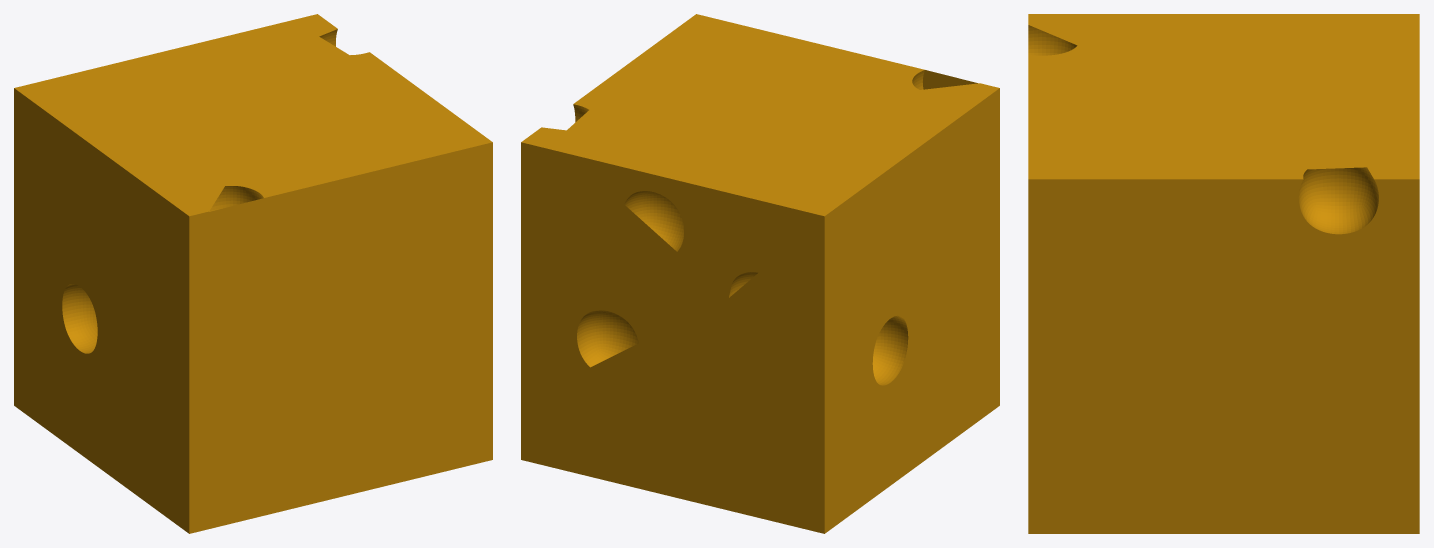
File: Cheese.obj
The picture shows the model from 3 angles, left to right: view 1: azimuth 30°, elevation 25°; view 2: azimuth 150°, elevation 25°; view 3: azimuth 270°, elevation 25°; orthographic projection. The views are drawn at different scales.
Parts seen in each view (by area): view 1: Cube.005; view 2: Cube.005; view 3: Cube.005.
Boxes of the visible parts, left/top/right/bottom form: Cube.005: left=14, top=14, right=492, bottom=533; Cube.005: left=521, top=14, right=999, bottom=533; Cube.005: left=1028, top=14, right=1419, bottom=533.
Size of the model in its own units: 2 by 2 by 2.
